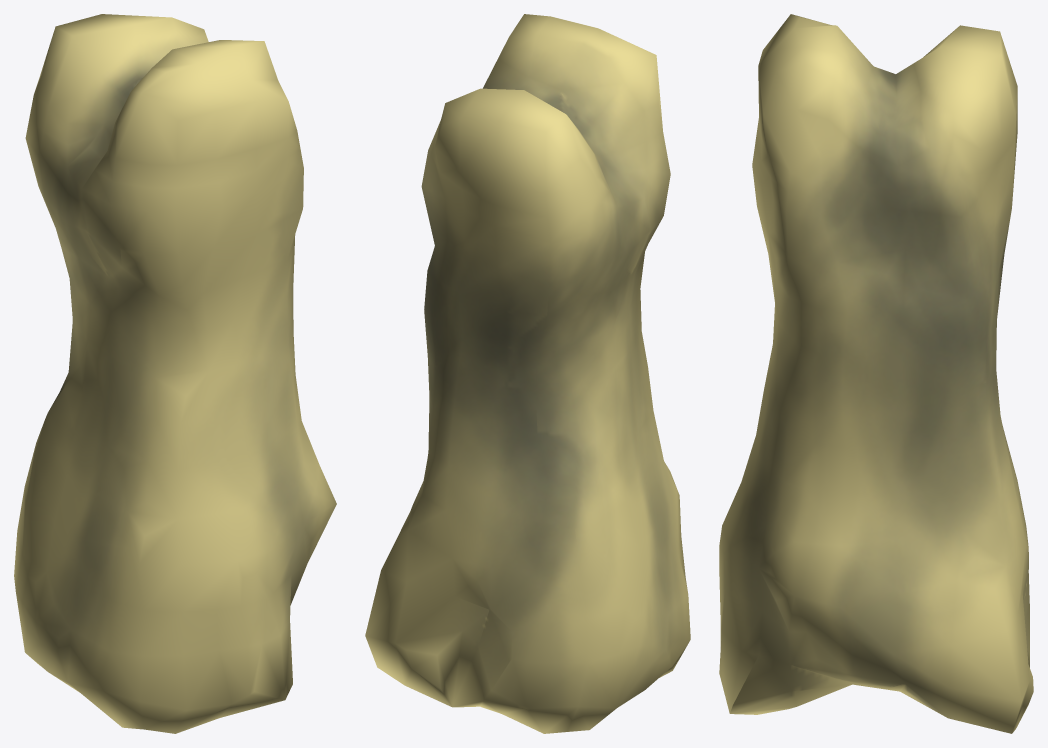
The model's file is Soldier_Bone_2.fbx.
3 renders of one model, left to right at view 1: azimuth 30°, elevation 25°; view 2: azimuth 150°, elevation 25°; view 3: azimuth 270°, elevation 25°, orthographic. The views are drawn at different scales.
Visible parts, largest first — view 1: Soldier_bone_2; view 2: Soldier_bone_2; view 3: Soldier_bone_2.
Part boxes in pixels (bbox=[...]): Soldier_bone_2: bbox=[14, 14, 336, 733]; Soldier_bone_2: bbox=[365, 14, 690, 733]; Soldier_bone_2: bbox=[719, 14, 1033, 733].
Bounding box in the file's own units: 49.75 × 120 × 50.27.
1 material, 1 textured.
